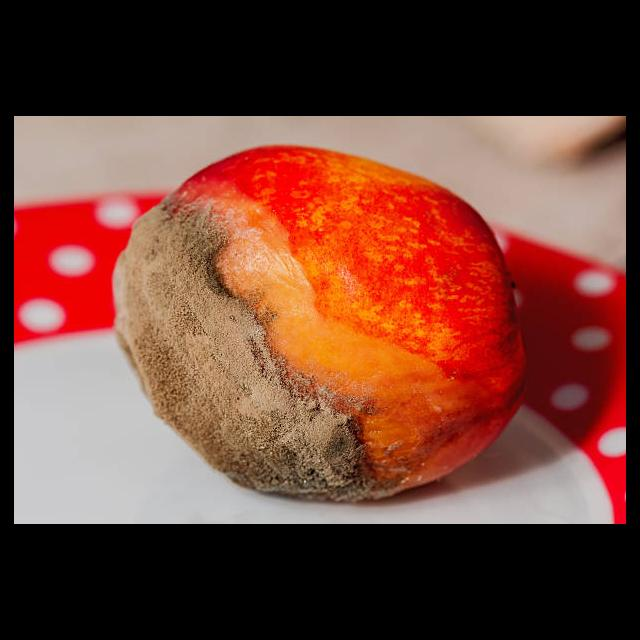food_waste: (83, 138, 534, 522)
